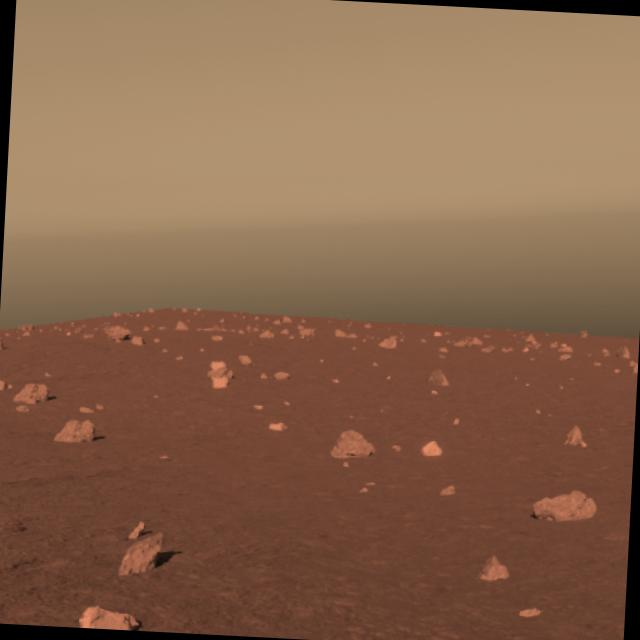rock: (528, 481, 608, 527), (114, 522, 174, 582), (70, 595, 144, 631), (52, 410, 104, 447), (332, 428, 376, 463)
